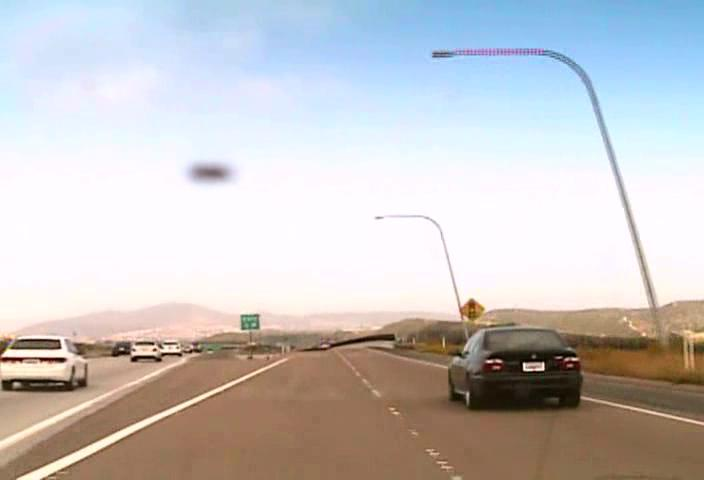signalAhead: (458, 297, 485, 323)
